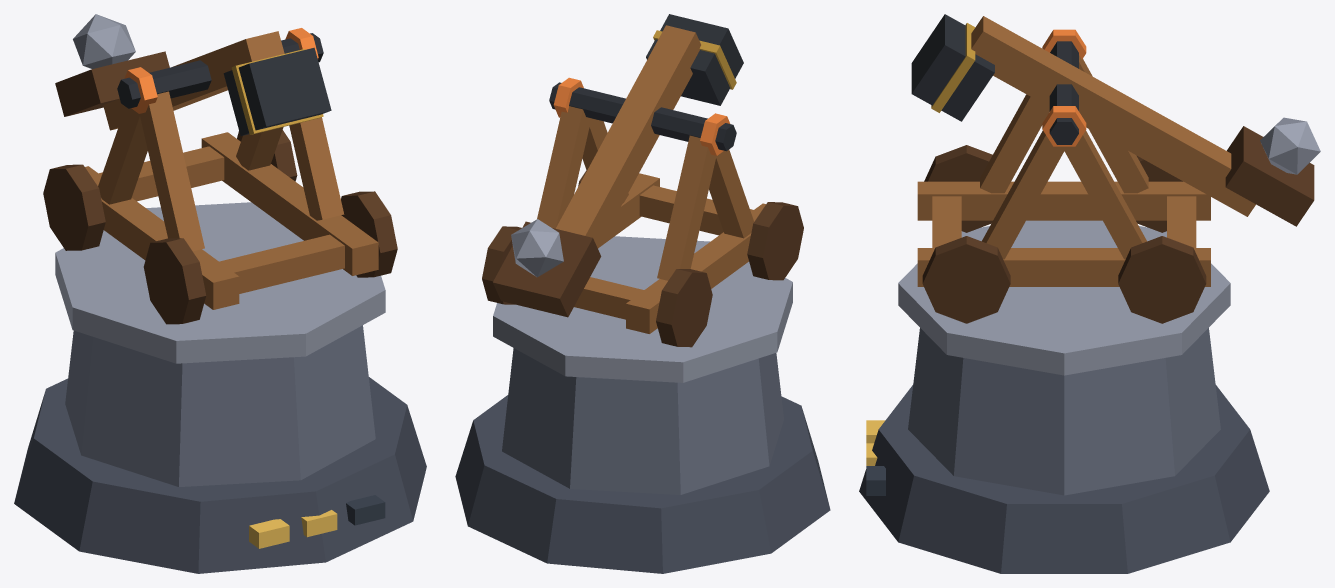
Rendered from catapult-1.glb.
3 views of the same model, side by side, from view 1: azimuth 30°, elevation 25°; view 2: azimuth 150°, elevation 25°; view 3: azimuth 270°, elevation 25° (orthographic). The views are drawn at different scales.
Parts seen in each view (by area): view 1: catapult-1; view 2: catapult-1; view 3: catapult-1.
Part boxes in pixels (x1,y1,x2,y2): catapult-1: (14, 14, 426, 573); catapult-1: (455, 14, 830, 573); catapult-1: (859, 14, 1320, 573).
Bounding box in the file's own units: 0.7989 × 1.06 × 0.9445.
Materials: 1 (1 with a texture image).
